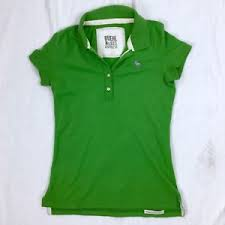S_polo shirt: (23, 10, 205, 216)
